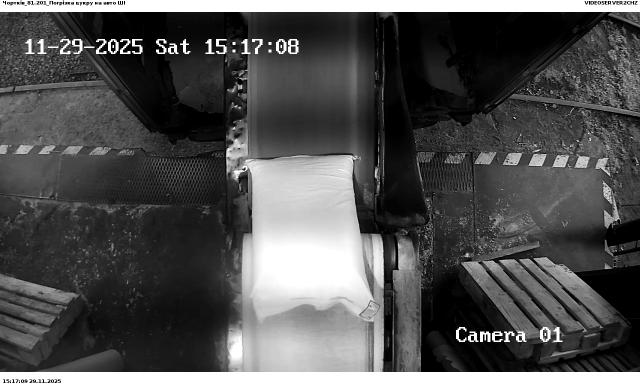bag: (243, 154, 380, 322)
